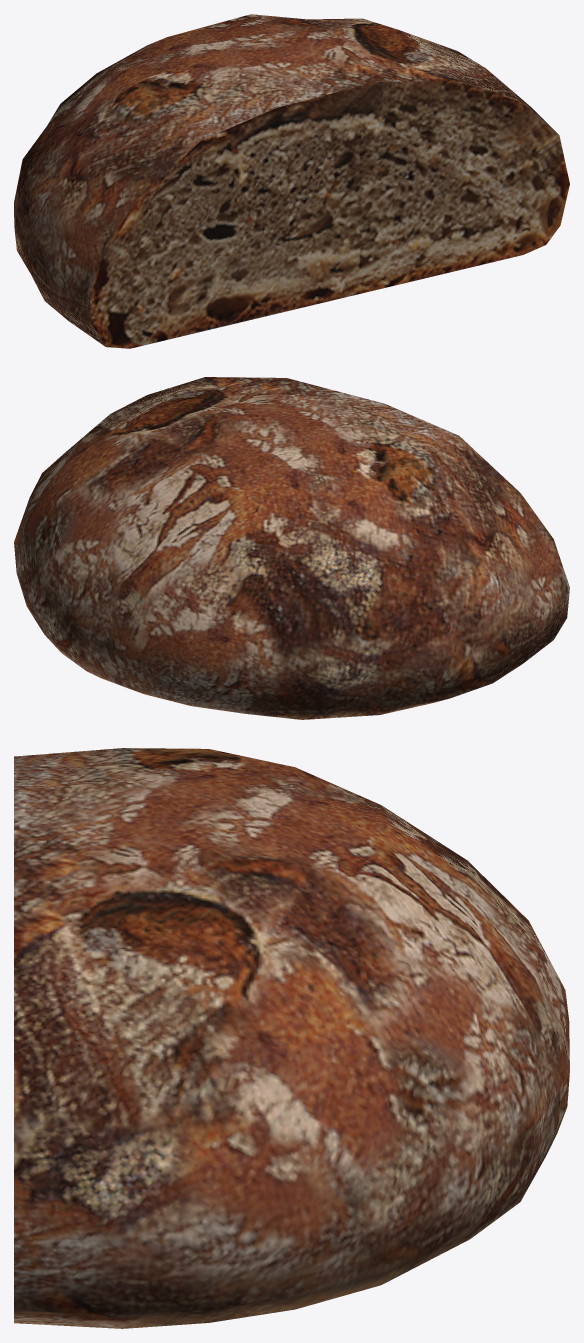
File: masa.obj
The picture shows the model from 3 angles, top to bottom: view 1: azimuth 30°, elevation 25°; view 2: azimuth 150°, elevation 25°; view 3: azimuth 270°, elevation 25°; orthographic projection. The views are drawn at different scales.
Parts seen in each view (by area): view 1: Line002.001_Mesh.002; view 2: Line002.001_Mesh.002; view 3: Line002.001_Mesh.002.
Boxes of the visible parts, <box> form: Line002.001_Mesh.002: <box>14,14,569,348</box>; Line002.001_Mesh.002: <box>14,377,569,719</box>; Line002.001_Mesh.002: <box>14,748,569,1328</box>.
Bounding box in the file's own units: 0.2635 × 0.1105 × 0.1616.
Materials: 1 (1 with a texture image).
